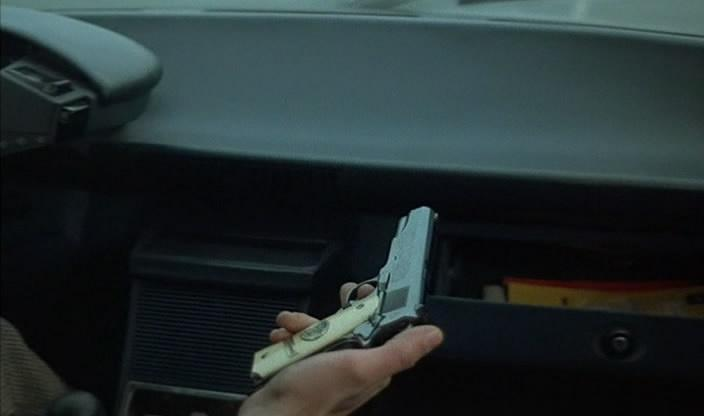gun: (248, 200, 443, 388)
